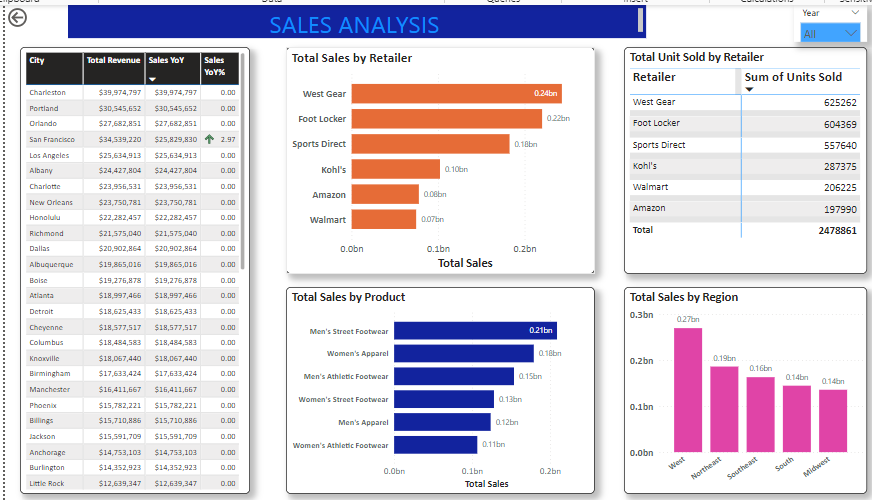

The page's visual inventory and layout, read from the dashboard file:
{"tool":"powerbi","page":{"name":"Sales","canvas":[1400,800],"ordinal":1},"visuals":[{"type":"actionButton","box":[0,0,100,40],"z":0},{"type":"tableEx","fields":{"Values":["Data Sales Adidas.City","Data Sales Adidas.Total Revenue","Data Sales Adidas.Sales YoY","Data Sales Adidas.Sales YoY%"]},"box":[24,67.2,368,715.2],"z":1000},{"type":"clusteredBarChart","title":" Total Sales by Retailer","fields":{"Category":["Data Sales Adidas.Retailer"],"Y":["Sum(Data Sales Adidas.Total Sales)"]},"box":[449.6,67.2,494.4,363.2],"z":2000},{"type":"clusteredBarChart","title":" Total Sales by Product","fields":{"Category":["Data Sales Adidas.Product"],"Y":["Sum(Data Sales Adidas.Total Sales)"]},"box":[449.6,451.2,494.4,331.2],"z":3000},{"type":"pivotTable","title":"Total Unit Sold by Retailer","fields":{"Values":["Sum(Data Sales Adidas.Units Sold)"],"Rows":["Data Sales Adidas.Retailer"]},"box":[990.4,67.2,388.8,363.2],"z":4000},{"type":"clusteredColumnChart","title":"Total Sales by Region","fields":{"Category":["Data Sales Adidas.Region"],"Y":["Sum(Data Sales Adidas.Total Sales)"]},"box":[990.4,451.2,388.8,331.2],"z":5000},{"type":"shape","box":[100.8,0,924.8,52.8],"z":6000},{"type":"textbox","box":[100.8,0,924.8,52.8],"z":7000},{"type":"slicer","fields":{"Values":["calendertable.Year"]},"box":[1262.4,0,116.8,59.2],"z":8001}]}

Visuals, with their boxes on the page's 1400x800 design canvas (x1, y1, x2, y2). These are canvas units, not pixel positions in the 872x500 screenshot, which may show the page scaled, cropped or inside an application window:
actionButton: left=0, top=0, right=100, bottom=40
tableEx - Data Sales Adidas.City x Data Sales Adidas.Total Revenue: left=24, top=67, right=392, bottom=782
" Total Sales by Retailer" clusteredBarChart: left=450, top=67, right=944, bottom=430
" Total Sales by Product" clusteredBarChart: left=450, top=451, right=944, bottom=782
"Total Unit Sold by Retailer" pivotTable: left=990, top=67, right=1379, bottom=430
"Total Sales by Region" clusteredColumnChart: left=990, top=451, right=1379, bottom=782
shape: left=101, top=0, right=1026, bottom=53
textbox: left=101, top=0, right=1026, bottom=53
slicer - calendertable.Year: left=1262, top=0, right=1379, bottom=59
